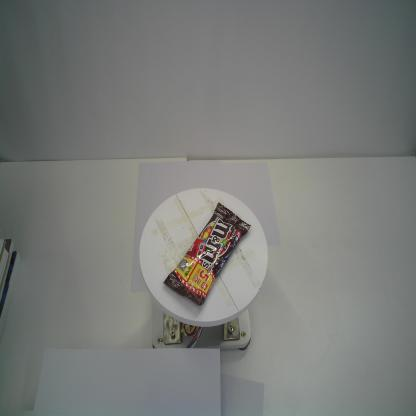Chocolate: (163, 203, 251, 304)
